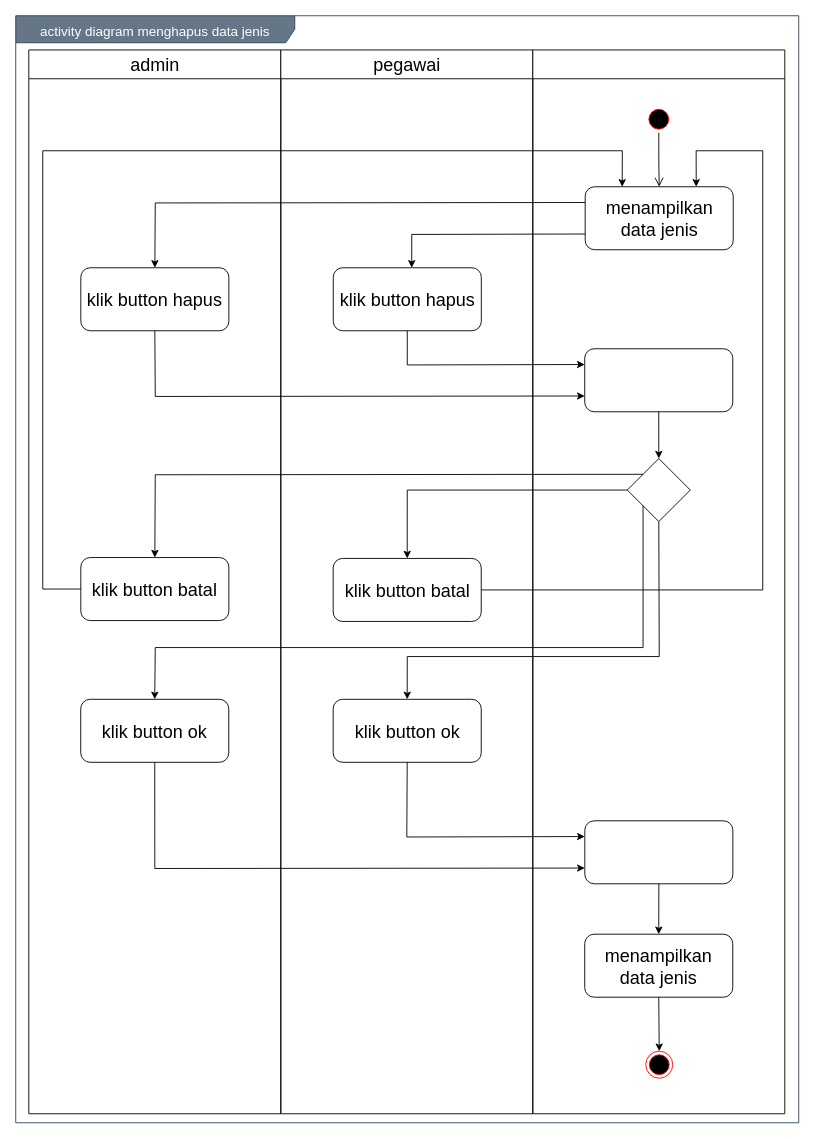
The diagram is 815 pixels wide and 1139 high, and some of its shapes have lost their labels. The box of each missing label's shape, as (x1, y1, x2, y2) in pixels:
menampilkan konfirmasi hapus data jenis: (584, 348, 733, 412)
menghapus data jenis: (584, 820, 733, 884)
sistem: (532, 49, 785, 1114)
